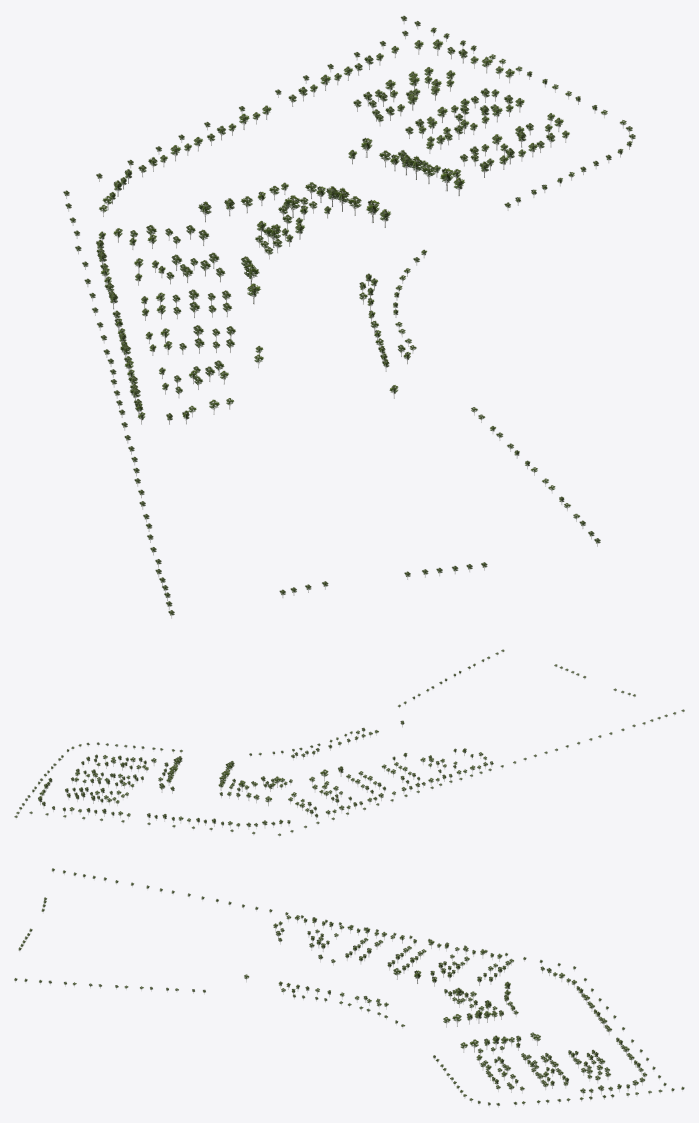
File: Tree.gltf
3 renders of one model, top to bottom at view 1: azimuth 30°, elevation 25°; view 2: azimuth 150°, elevation 25°; view 3: azimuth 270°, elevation 25°, orthographic. The views are drawn at different scales.
Parts seen in each view (by area): view 1: trees3; view 2: trees3; view 3: trees3.
Part boxes in pixels (<box>): trees3: <box>63,15,635,618</box>; trees3: <box>14,649,684,836</box>; trees3: <box>14,868,684,1107</box>.
Bounding box in the file's own units: 26.08 × 0.7757 × 31.32.
Materials: 1 (1 with a texture image).
